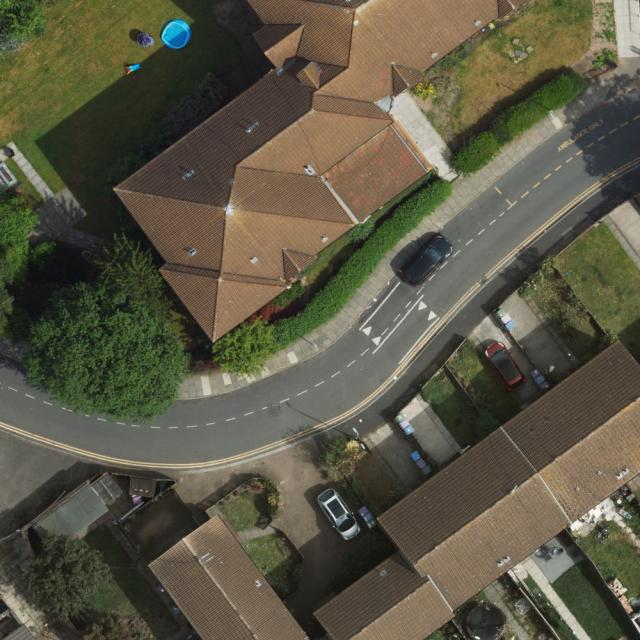roof: (110, 0, 532, 346), (315, 335, 640, 640), (148, 512, 312, 640)
